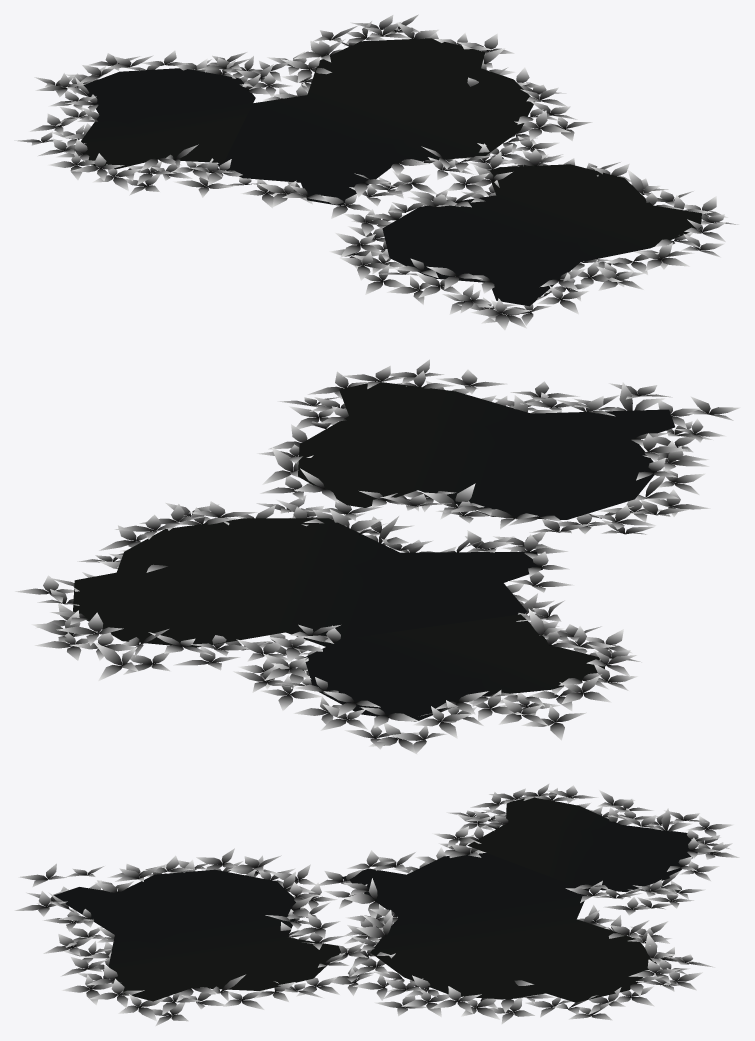
Rendered from SM_ENV_KNFRST_LeafShadow_GroupK.FBX.
The picture shows the model from 3 angles, top to bottom: view 1: azimuth 30°, elevation 25°; view 2: azimuth 150°, elevation 25°; view 3: azimuth 270°, elevation 25°; orthographic projection. The views are drawn at different scales.
Parts seen in each view (by area): view 1: SM_ENV_KNFRST_LeafShadow_GroupK; view 2: SM_ENV_KNFRST_LeafShadow_GroupK; view 3: SM_ENV_KNFRST_LeafShadow_GroupK.
Boxes of the visible parts, x1,y1,x2,y2 form: SM_ENV_KNFRST_LeafShadow_GroupK: (14,14,738,330); SM_ENV_KNFRST_LeafShadow_GroupK: (15,359,740,754); SM_ENV_KNFRST_LeafShadow_GroupK: (14,783,739,1026).
Size of the model in its own units: 1062 by 81.23 by 1436.
